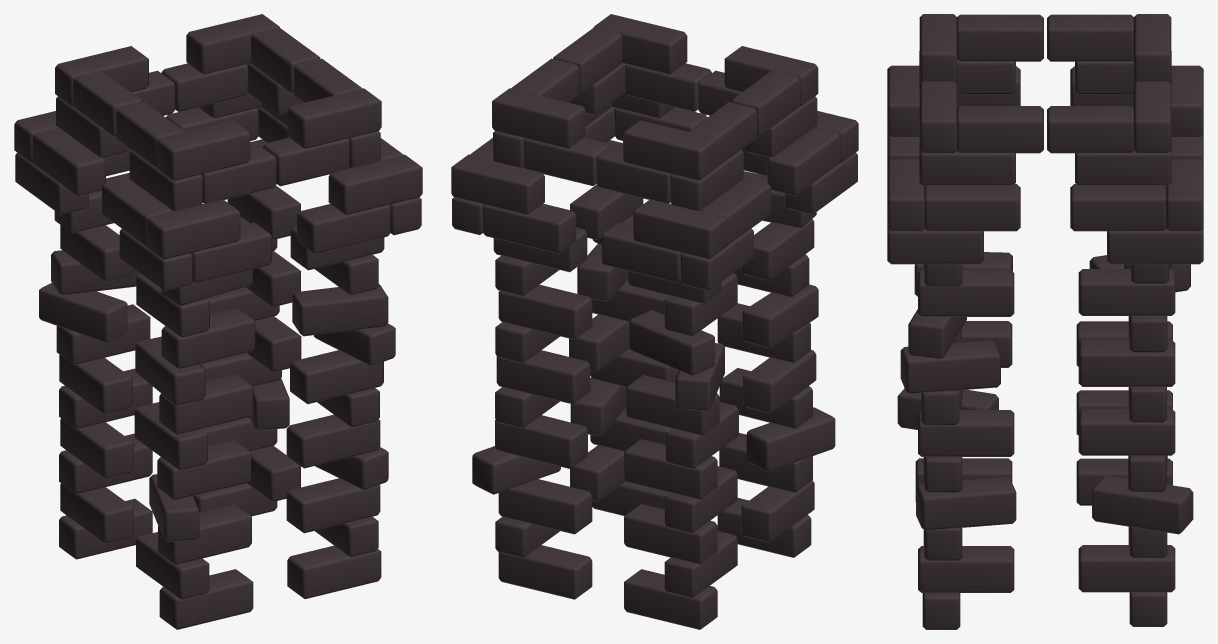
Rendered from ChimneyBricks.fbx.
3 renders of one model, left to right at view 1: azimuth 30°, elevation 25°; view 2: azimuth 150°, elevation 25°; view 3: azimuth 270°, elevation 25°, orthographic. The views are drawn at different scales.
Parts seen in each view (by area): view 1: ChimneyBricks; view 2: ChimneyBricks; view 3: ChimneyBricks.
Boxes of the visible parts, box(x1,y1,x2,y2) form: ChimneyBricks: box(14, 14, 422, 629); ChimneyBricks: box(451, 14, 858, 629); ChimneyBricks: box(887, 14, 1203, 629).
Bounding box in the file's own units: 80.7 × 143 × 80.18.
